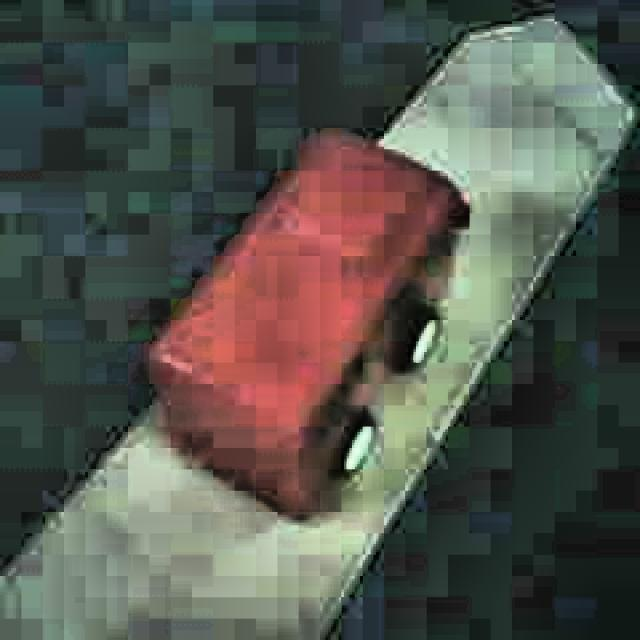bus: (144, 128, 470, 519)
